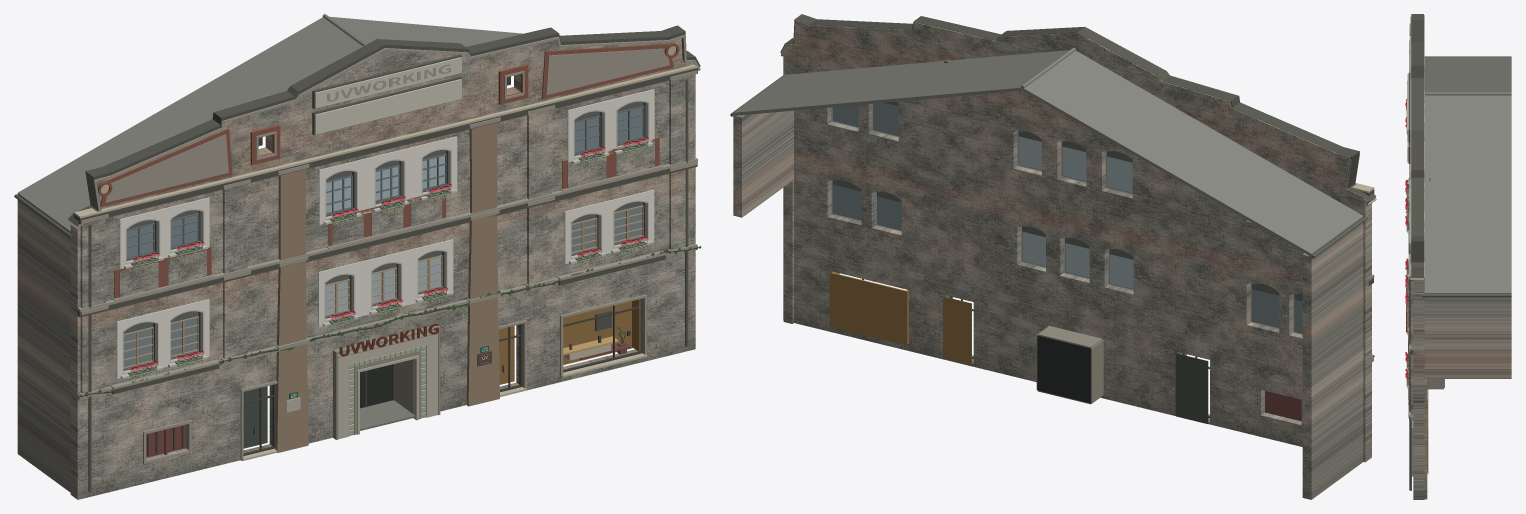
Rendered from huangpu-fifth-textile-warehouse-river-front-lod.glb.
3 renders of one model, left to right at view 1: azimuth 30°, elevation 25°; view 2: azimuth 150°, elevation 25°; view 3: azimuth 270°, elevation 25°, orthographic. The views are drawn at different scales.
Parts seen in each view (by area): view 1: 中国纺织建设公司第五仓库临河弧券窗与中央门洞; view 2: 中国纺织建设公司第五仓库临河弧券窗与中央门洞; view 3: 中国纺织建设公司第五仓库临河弧券窗与中央门洞.
Boxes of the visible parts, x1,y1,x2,y2 form: 中国纺织建设公司第五仓库临河弧券窗与中央门洞: [14, 14, 701, 499]; 中国纺织建设公司第五仓库临河弧券窗与中央门洞: [730, 14, 1376, 499]; 中国纺织建设公司第五仓库临河弧券窗与中央门洞: [1405, 14, 1511, 499].
Bounding box in the file's own units: 27.82 × 16.23 × 5.2.
Materials: 39 (1 with a texture image).
